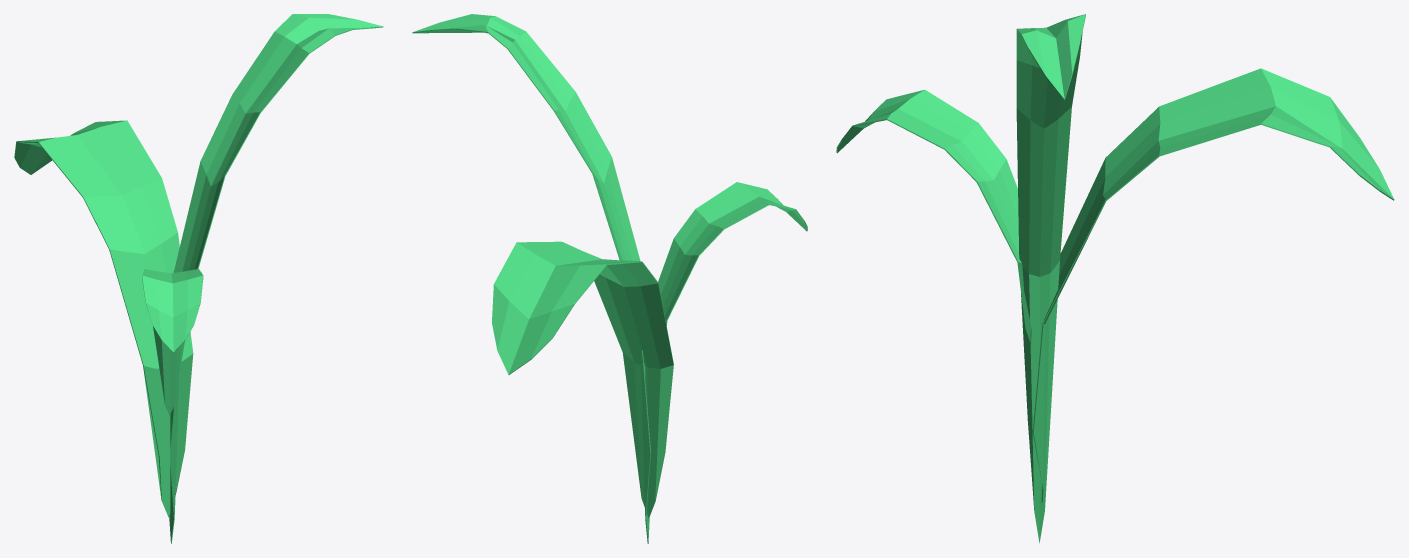
The model's file is Mission.fbx.
The picture shows the model from 3 angles, left to right: view 1: azimuth 30°, elevation 25°; view 2: azimuth 150°, elevation 25°; view 3: azimuth 270°, elevation 25°; orthographic projection. The views are drawn at different scales.
Visible parts, largest first — view 1: Mission; view 2: Mission; view 3: Mission.
Boxes of the visible parts, x1,y1,x2,y2 form: Mission: (14, 14, 383, 543); Mission: (412, 14, 807, 543); Mission: (836, 14, 1394, 543).
Size of the model in its own units: 3.84 by 5.74 by 4.71.
